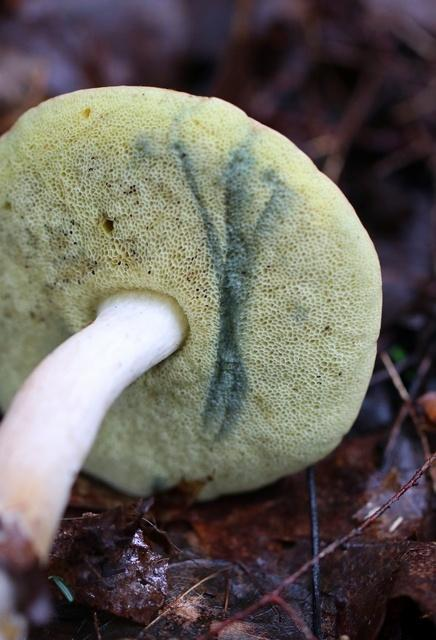Edible Mushroom: (0, 82, 383, 634)
